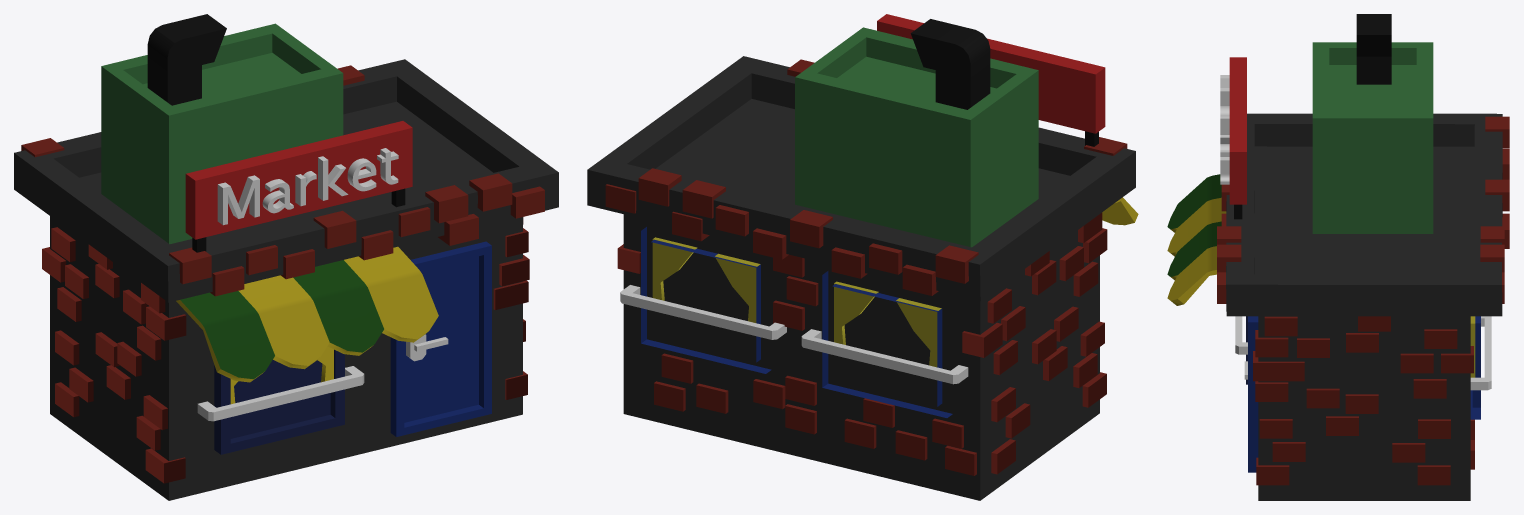
Rendered from Market.FBX.
3 renders of one model, left to right at view 1: azimuth 30°, elevation 25°; view 2: azimuth 150°, elevation 25°; view 3: azimuth 270°, elevation 25°, orthographic. The views are drawn at different scales.
Parts seen in each view (by area): view 1: pCube1; view 2: pCube1; view 3: pCube1.
Boxes of the visible parts, x1,y1,x2,y2 form: pCube1: [14, 14, 558, 500]; pCube1: [587, 14, 1138, 500]; pCube1: [1167, 14, 1509, 500].
Size of the model in its own units: 2.56 by 2.53 by 2.18.
